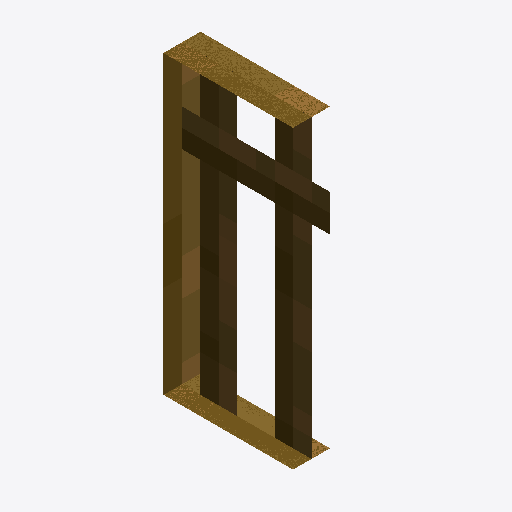
A Minecraft block model of 4 cuboids, rendered isometrically (azimuth 45°, elevation 35.3°) with the resource pack's own textures.
Visible parts, largest first — element 1, element 2, element 4, element 3.
Part boxes in pixels (left/top/right/bottom): element 1: left=182, top=56, right=329, bottom=458; element 2: left=163, top=45, right=199, bottom=394; element 4: left=164, top=32, right=329, bottom=127; element 3: left=164, top=374, right=329, bottom=468.
Bounding box in the file's own units: 2 × 16 × 8.